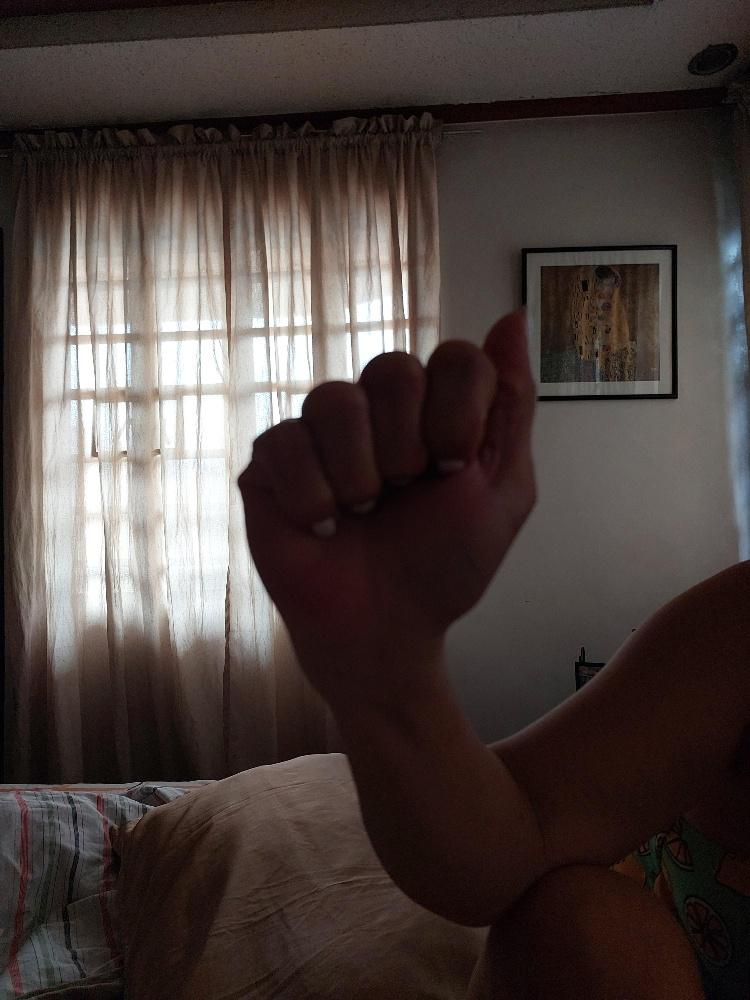a: (225, 303, 544, 648)
